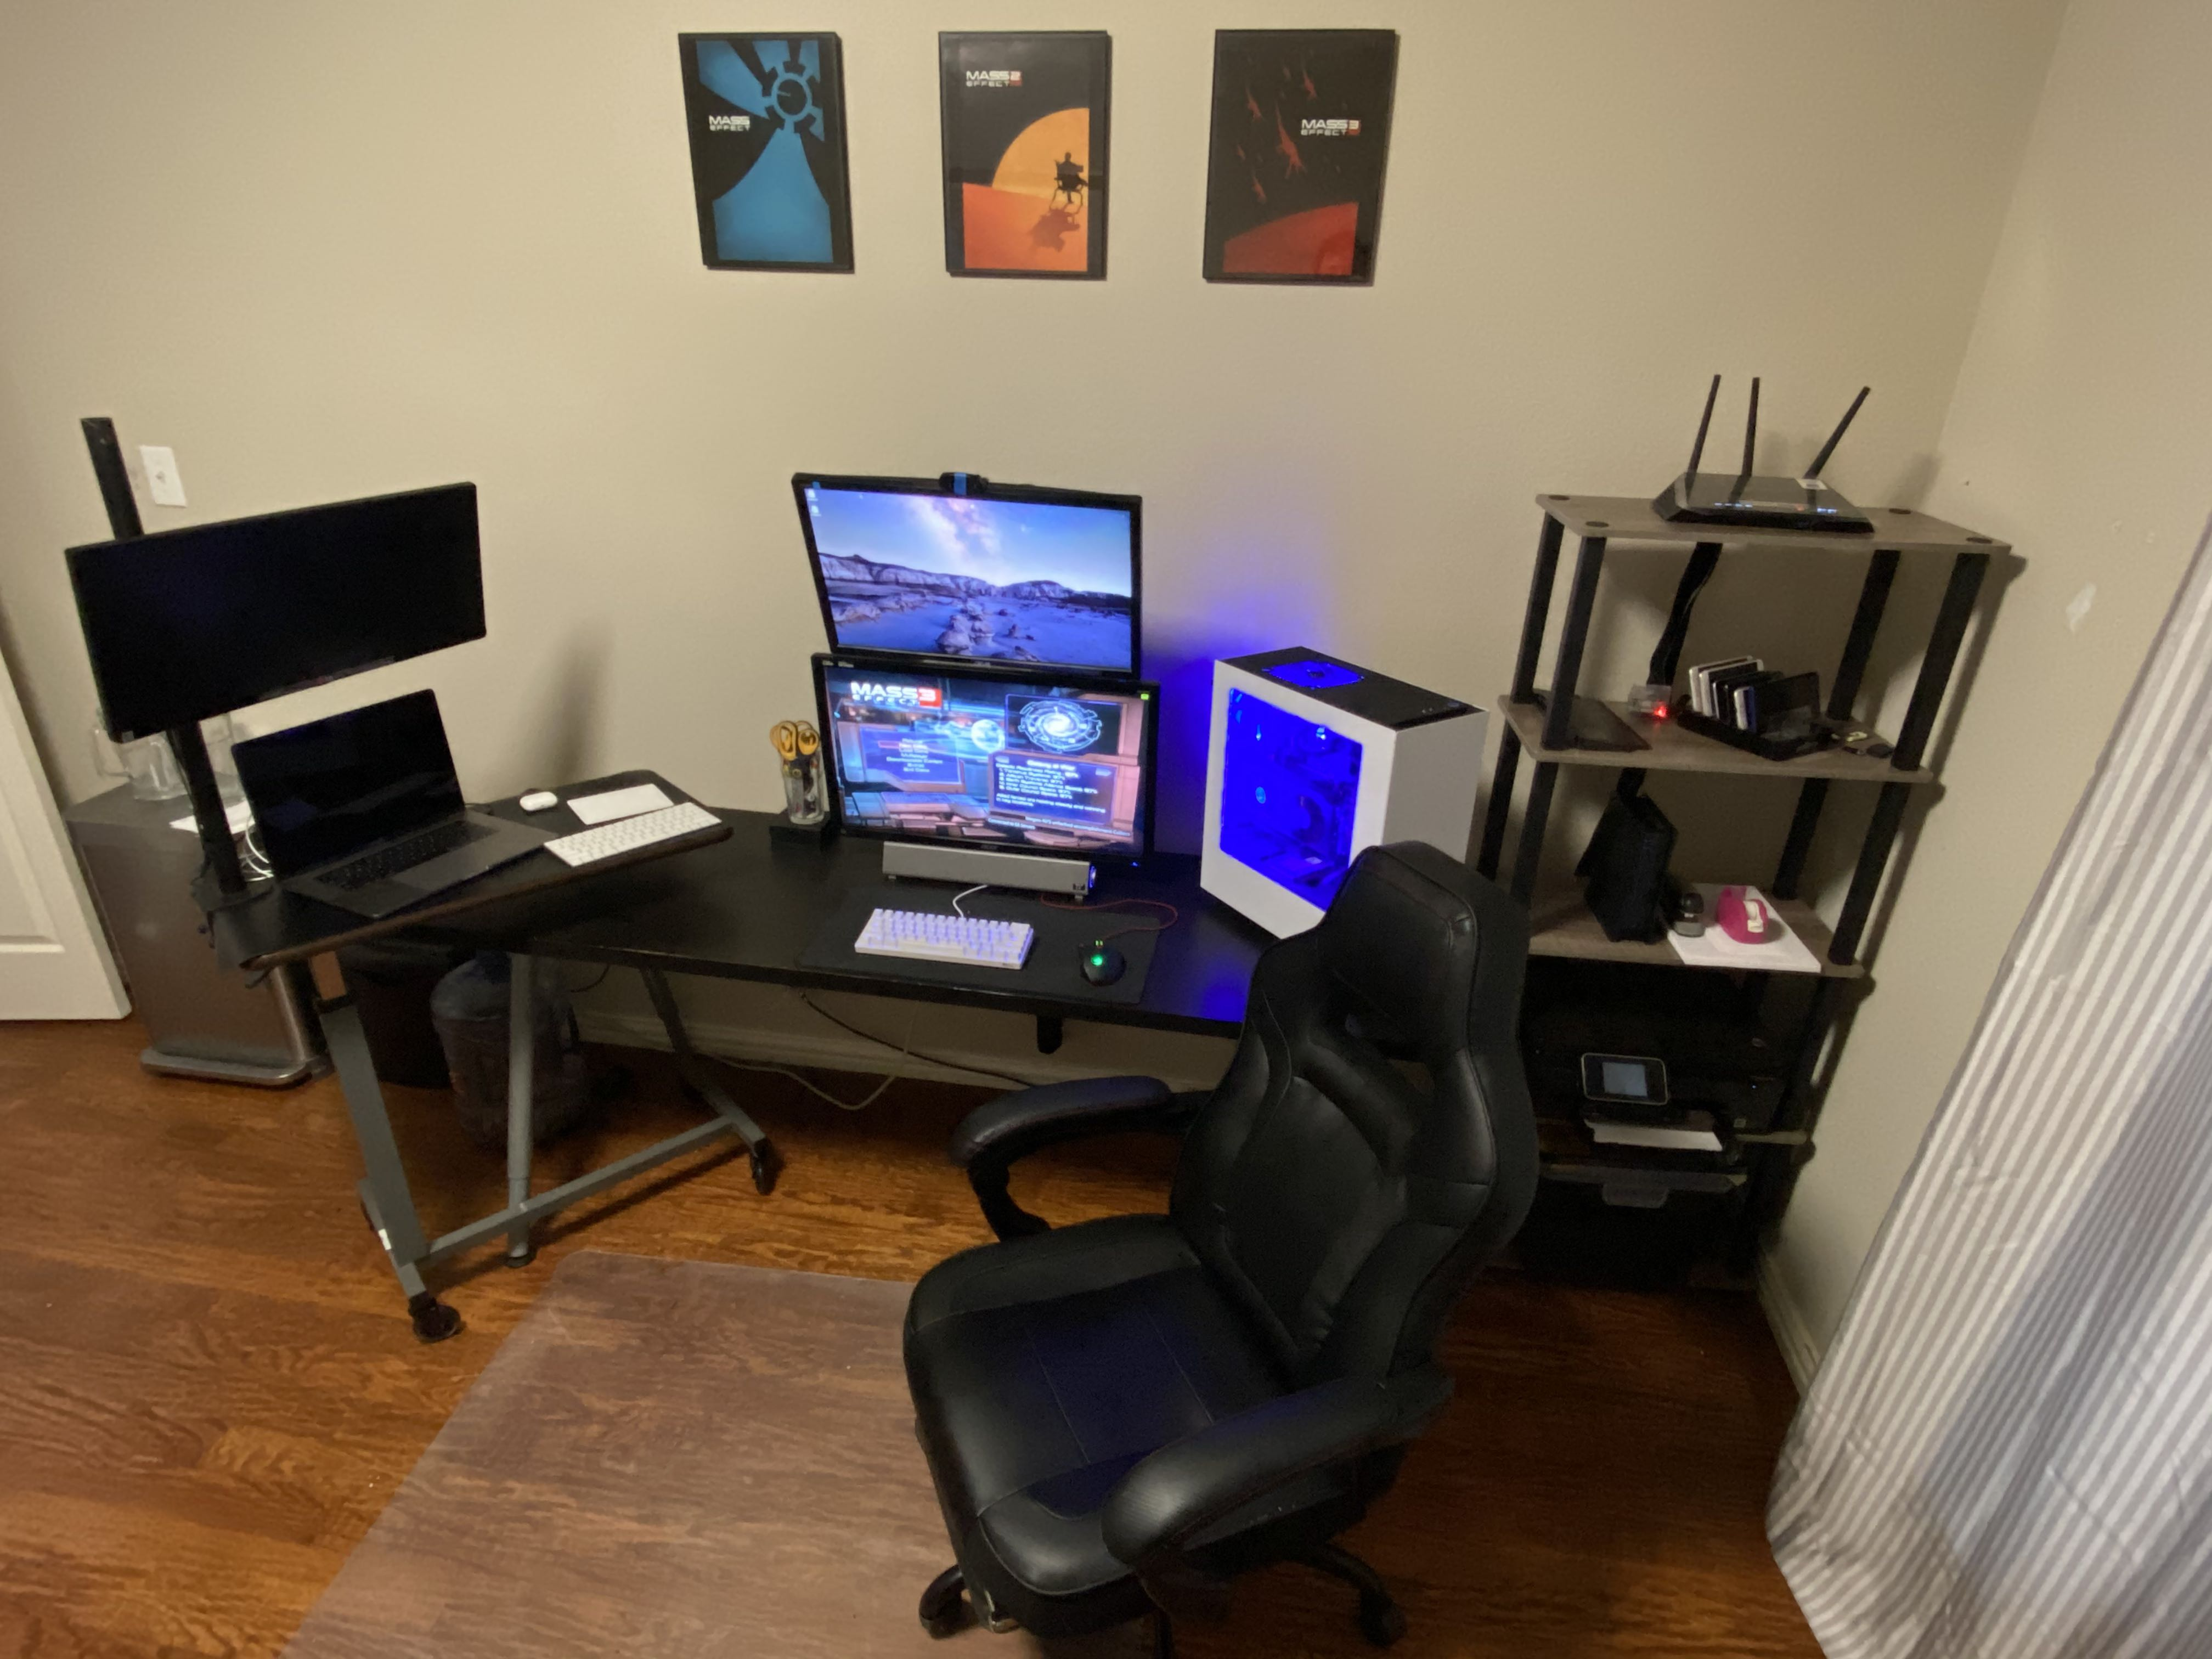Cellphone: (1686, 655, 1811, 737)
Chair (Generic): (897, 835, 1538, 1647)
Decoration (Picture): (1207, 24, 1395, 284), (679, 30, 866, 274), (934, 31, 1120, 275)
Desk (Generic): (249, 816, 1275, 1330)
Desktop (Generic): (1193, 641, 1491, 953)
External Webcam: (939, 471, 988, 498)
Keyboard (Generic): (540, 800, 723, 870), (855, 908, 1033, 972)
Laptop (OSX): (230, 685, 554, 922)
Monitor (Landscape): (61, 474, 488, 742), (787, 471, 1150, 681), (808, 655, 1160, 854)
Mouse (Generic): (1076, 938, 1127, 988)
Mousepad (Gaming): (796, 884, 1162, 1009)
Printer: (1526, 1012, 1747, 1291)
Router: (1651, 364, 1874, 528)
